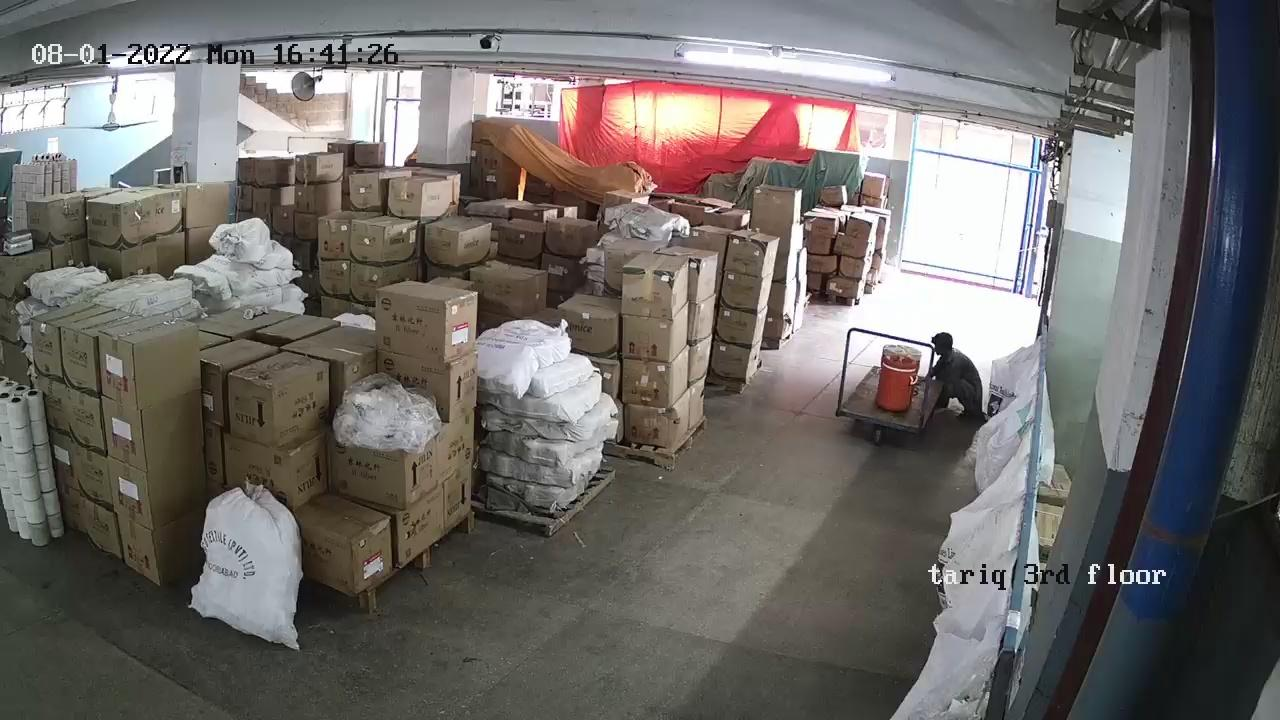person: (927, 332, 988, 417)
